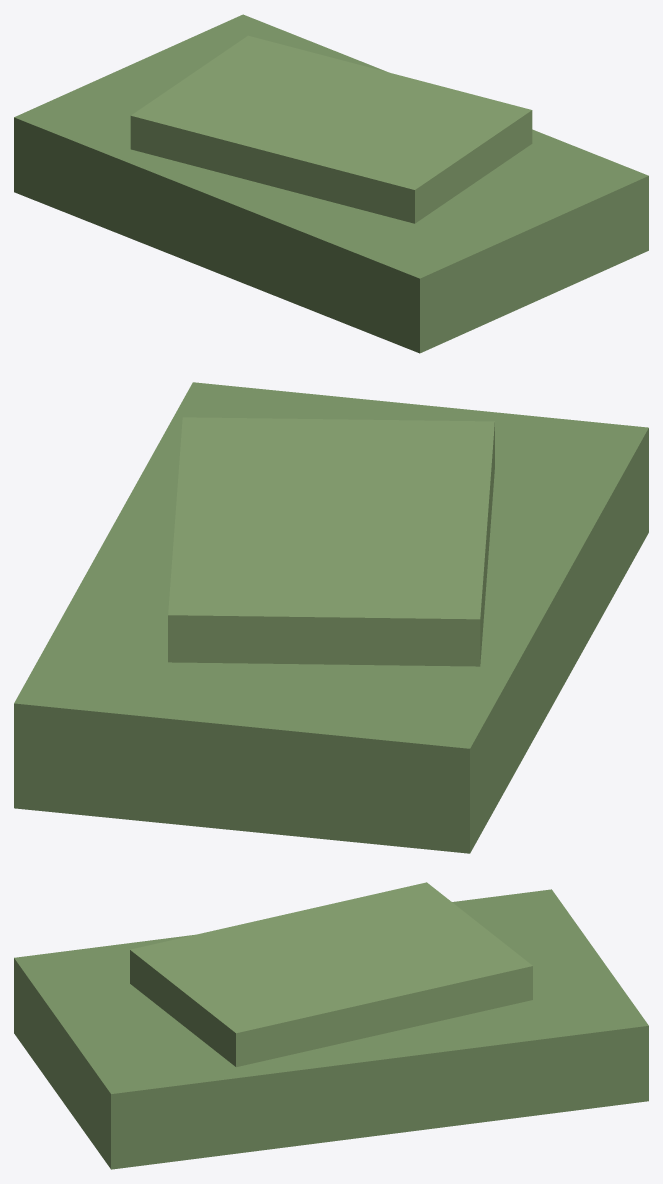
The model's file is structure.glb.
The picture shows the model from 3 angles, top to bottom: view 1: azimuth 30°, elevation 25°; view 2: azimuth 150°, elevation 25°; view 3: azimuth 270°, elevation 25°; orthographic projection. The views are drawn at different scales.
Visible parts, largest first — view 1: Box1, Box2; view 2: Box1, Box2; view 3: Box1, Box2.
Boxes of the visible parts, x1=… form: Box1: x1=14, y1=14, x2=648, y2=353; Box2: x1=130, y1=35, x2=532, y2=223; Box1: x1=14, y1=382, x2=648, y2=853; Box2: x1=168, y1=417, x2=494, y2=666; Box1: x1=14, y1=889, x2=648, y2=1169; Box2: x1=130, y1=882, x2=532, y2=1067.
Size of the model in its own units: 113 by 28.06 by 148.
